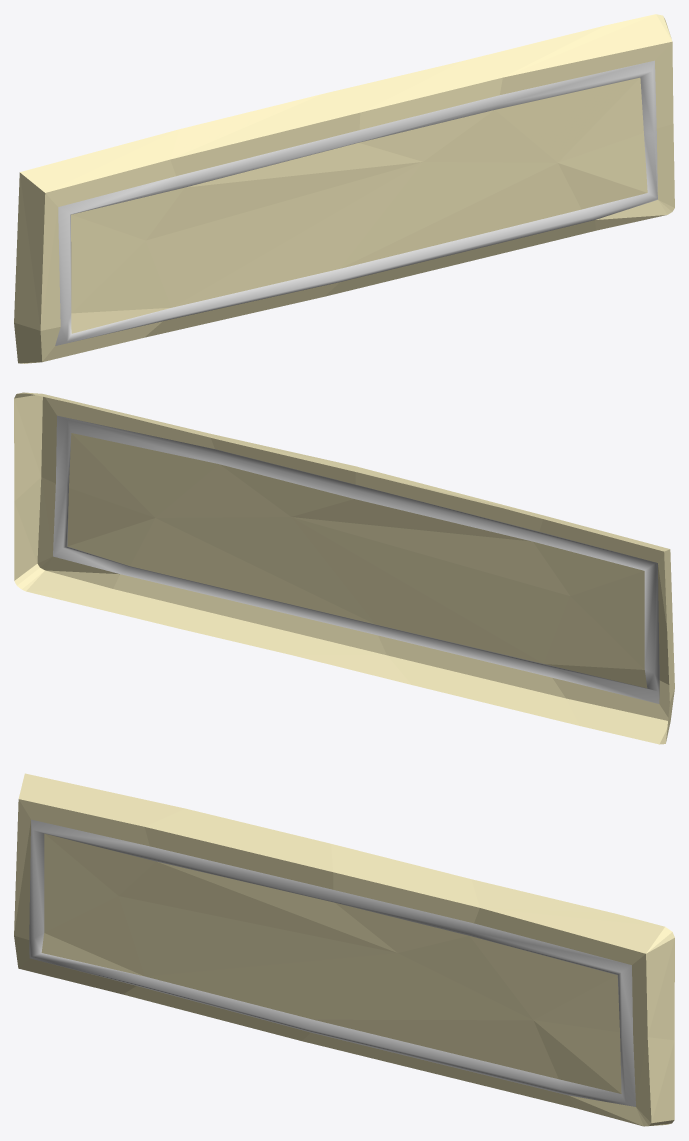
Rendered from ui_button_favorEdge_10x3.glb.
3 renders of one model, top to bottom at view 1: azimuth 30°, elevation 25°; view 2: azimuth 150°, elevation 25°; view 3: azimuth 330°, elevation 25°, orthographic.
Parts seen in each view (by area): view 1: Cube; view 2: Cube; view 3: Cube.
Part boxes in pixels (x1=…): Cube: x1=14, y1=14, x2=674, y2=363; Cube: x1=14, y1=392, x2=674, y2=744; Cube: x1=14, y1=773, x2=674, y2=1126.
Bounding box in the file's own units: 1.88 × 0.5481 × 0.1083.
